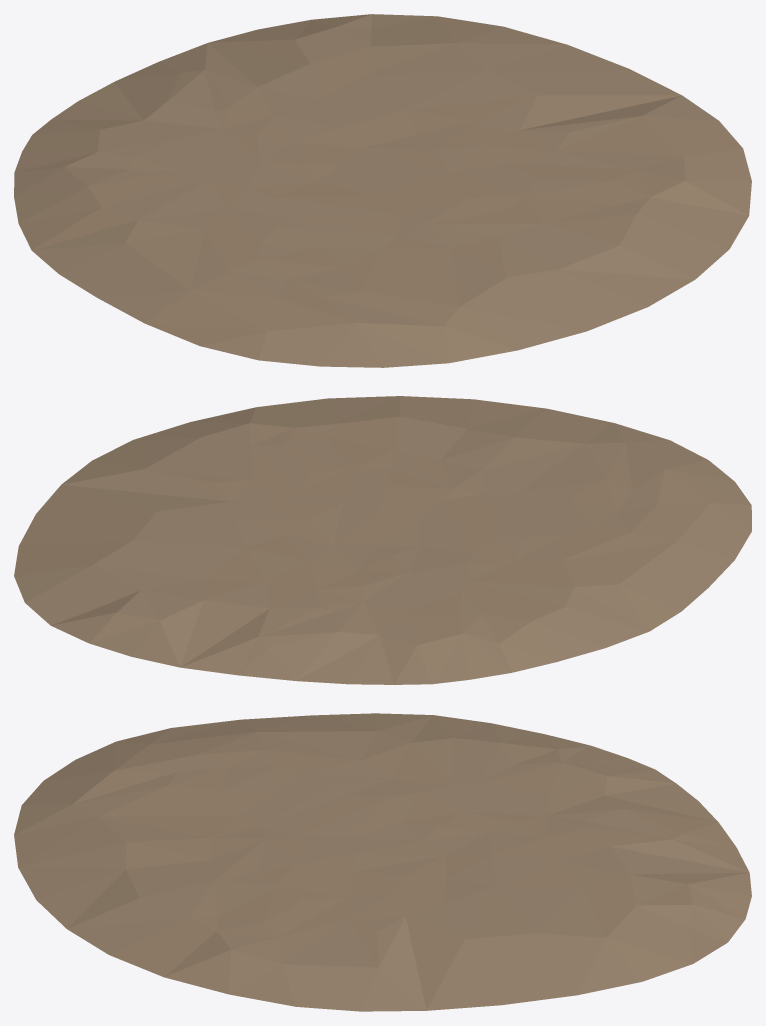
The model's file is SM_Env_Ground_Round_02.glb.
3 views of the same model, one above another, from view 1: azimuth 30°, elevation 25°; view 2: azimuth 150°, elevation 25°; view 3: azimuth 270°, elevation 25° (orthographic). The views are drawn at different scales.
Visible parts, largest first — view 1: SM_Env_Ground_Round_02; view 2: SM_Env_Ground_Round_02; view 3: SM_Env_Ground_Round_02.
Boxes of the visible parts, left/top/right/bottom form: SM_Env_Ground_Round_02: left=14, top=14, right=751, bottom=367; SM_Env_Ground_Round_02: left=14, top=396, right=751, bottom=684; SM_Env_Ground_Round_02: left=14, top=713, right=751, bottom=1011.
Size of the model in its own units: 20.4 by 0.5174 by 21.33.
Materials: 1 (1 with a texture image).
